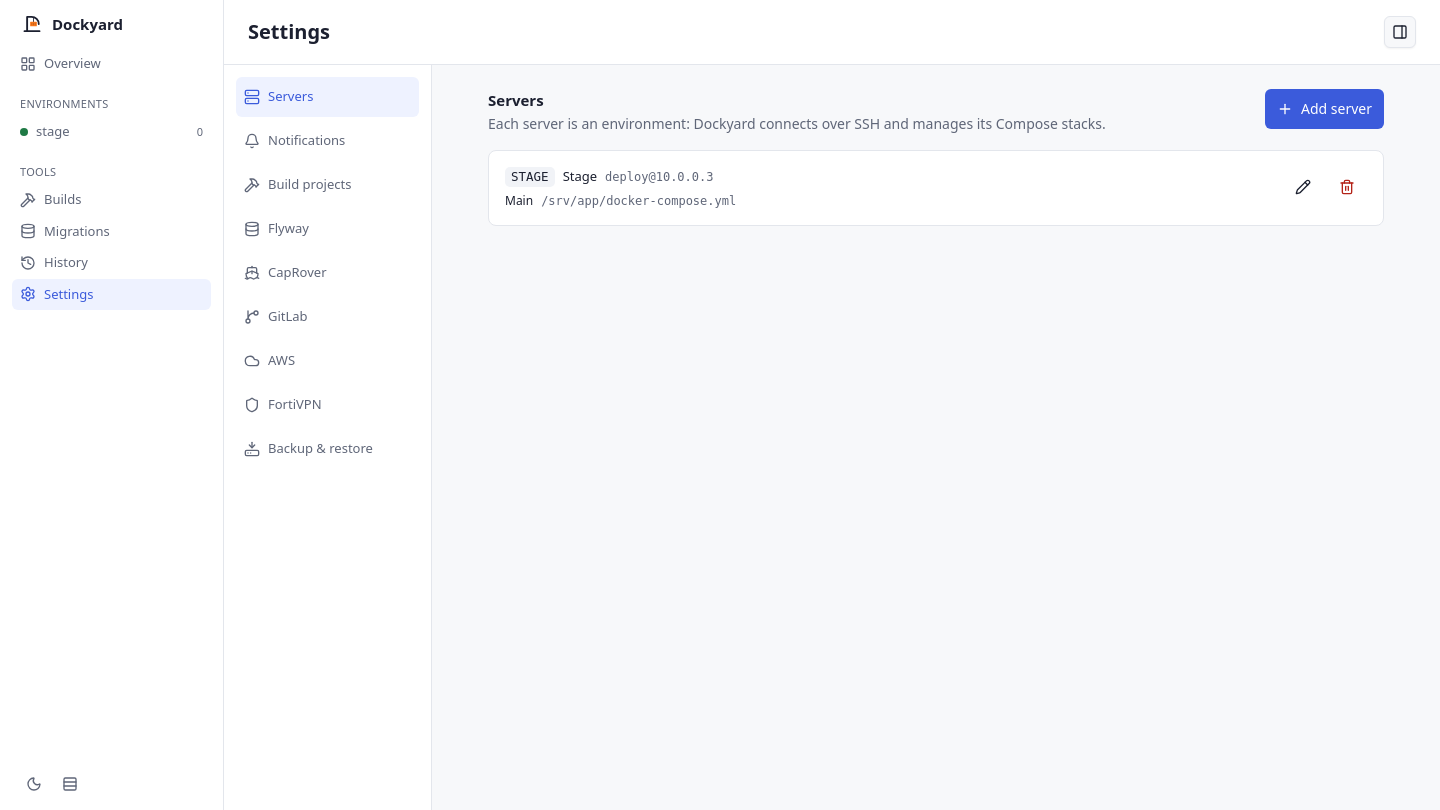
Test case: Settings › lists servers and saves an edit
The width and height of the screenshot is (1440, 810).
Click the button named "Edit stage". click: x=1303, y=186
box: [1283,166,1323,206]
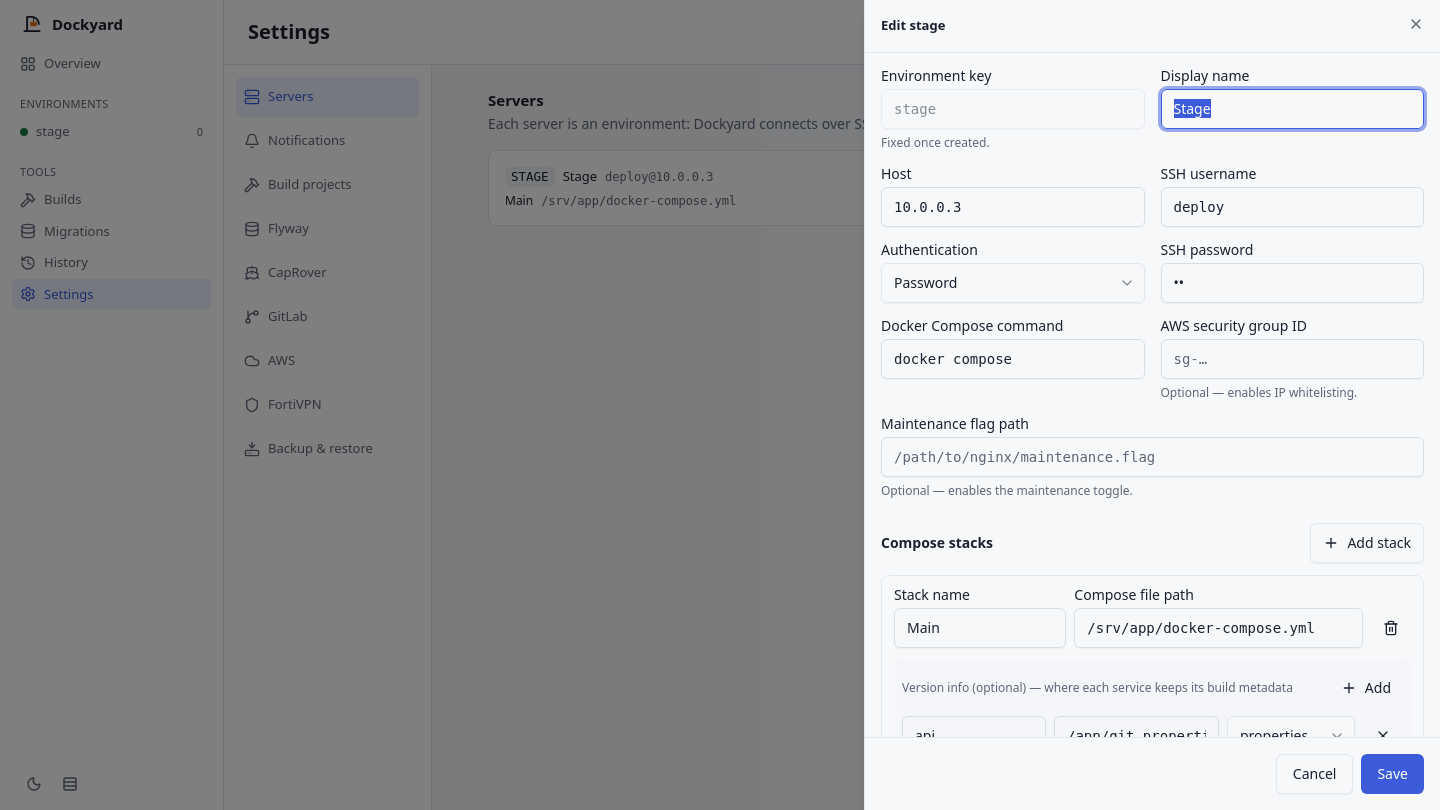
Now the field labelled "Environment key" is disabled, box [881,88,1144,128]
Replace the text in the field labelled "Host" with "10.0.0.4". click: x=1013, y=206
box: [881,186,1144,226]
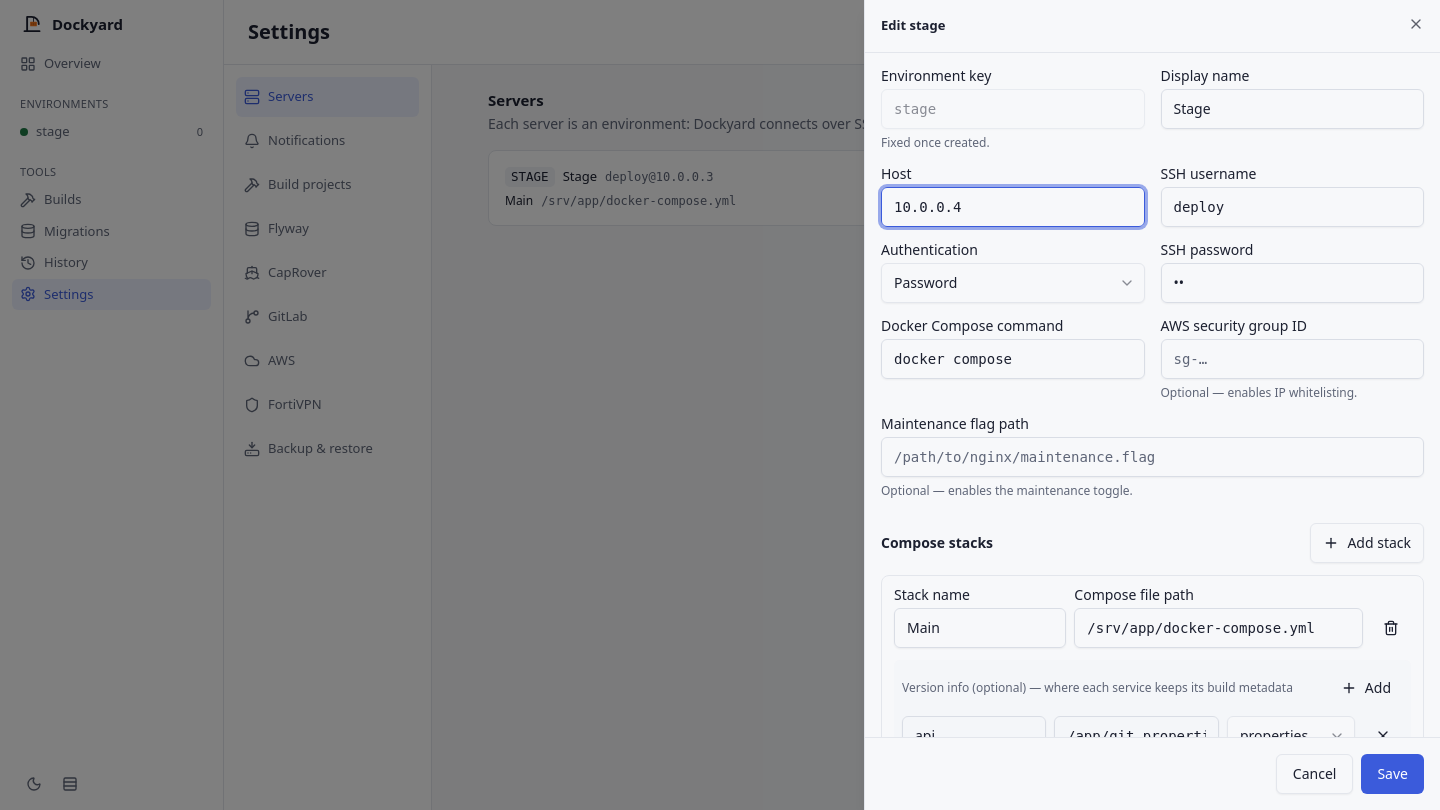
Click the button "Save". click: x=1393, y=774
box: [1361,754,1424,794]
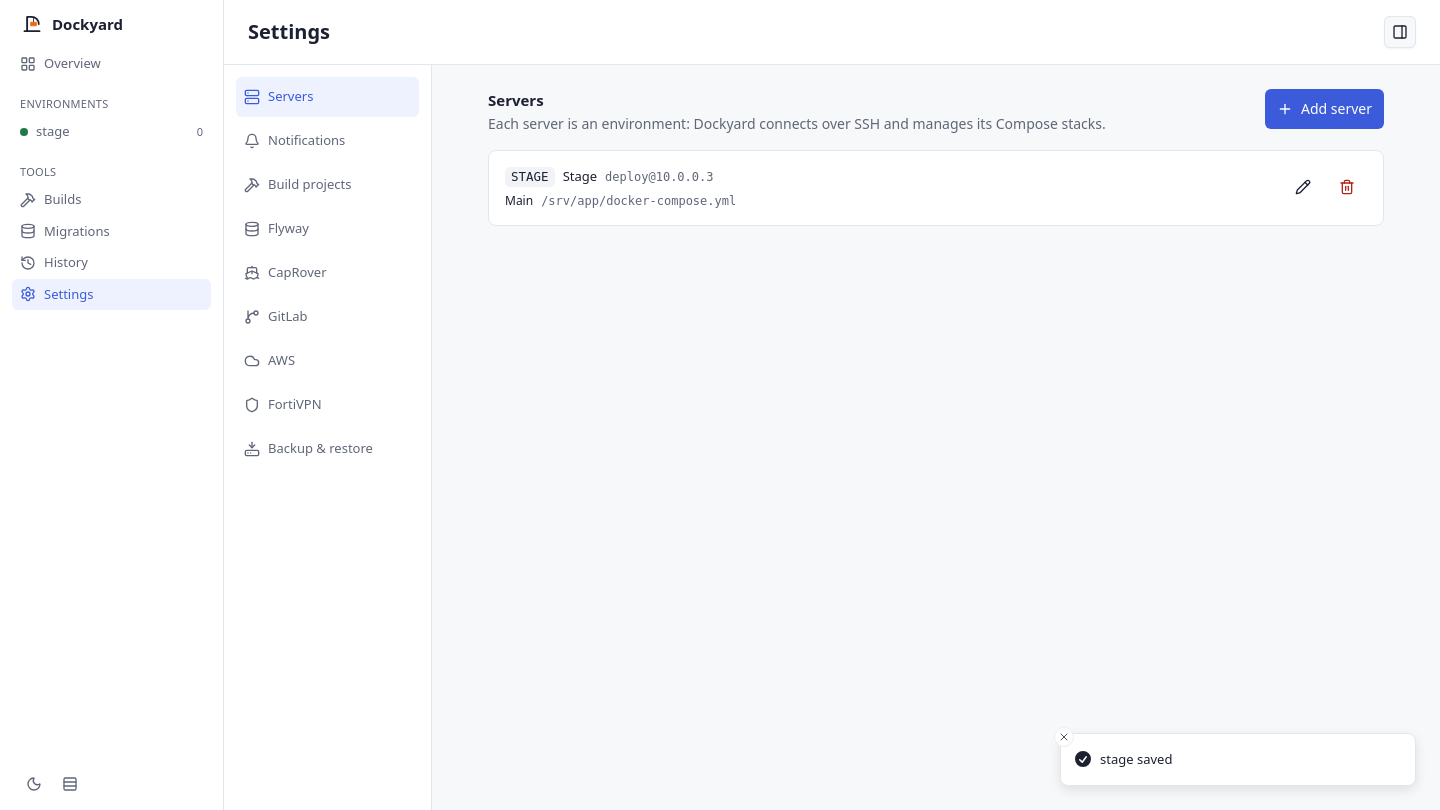
Now the dialog is gone
